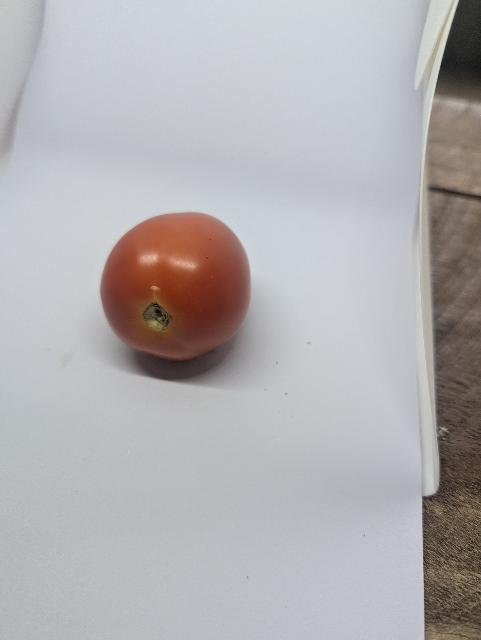red: (96, 200, 261, 370)
